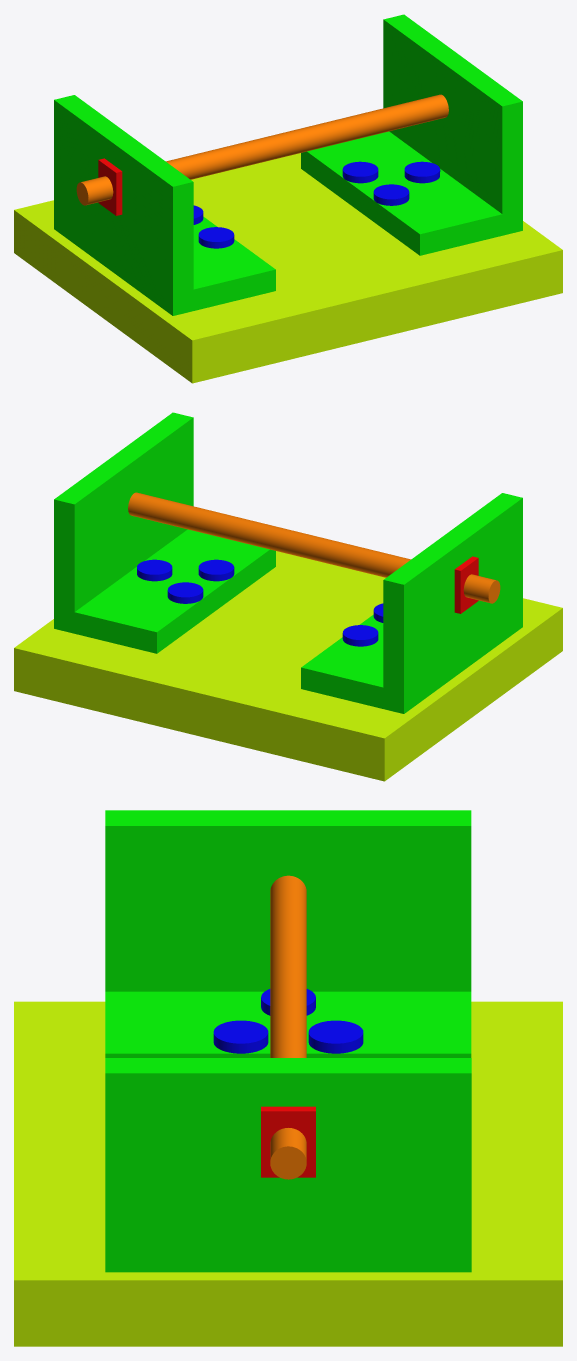
3 renders of one model, top to bottom at view 1: azimuth 30°, elevation 25°; view 2: azimuth 150°, elevation 25°; view 3: azimuth 270°, elevation 25°, orthographic. The views are drawn at different scales.
Parts seen in each view (by area): view 1: plate_1, l-bracket_1 (×2), rod_1, bolt_1 (×4), nut_2; view 2: plate_1, l-bracket_1 (×2), rod_1, bolt_1 (×4), nut_2; view 3: l-bracket_1 (×2), plate_1, rod_1, bolt_1 (×2), nut_1.
Part boxes in pixels (bbox=[...]): plate_1: bbox=[14, 153, 562, 383]; l-bracket_1 (×2): bbox=[54, 14, 522, 315]; rod_1: bbox=[76, 94, 448, 205]; bolt_1 (×4): bbox=[198, 161, 440, 248]; nut_2: bbox=[98, 158, 122, 215]; plate_1: bbox=[14, 551, 562, 781]; l-bracket_1 (×2): bbox=[54, 412, 522, 713]; rod_1: bbox=[128, 492, 500, 603]; bolt_1 (×4): bbox=[137, 559, 378, 646]; nut_2: bbox=[454, 556, 478, 613]; l-bracket_1 (×2): bbox=[105, 810, 471, 1272]; plate_1: bbox=[14, 1001, 562, 1346]; rod_1: bbox=[270, 875, 306, 1179]; bolt_1 (×2): bbox=[213, 1020, 363, 1053]; nut_1: bbox=[261, 1106, 315, 1177].
Bounding box in the file's own units: 0.2 × 0.084 × 0.15.
